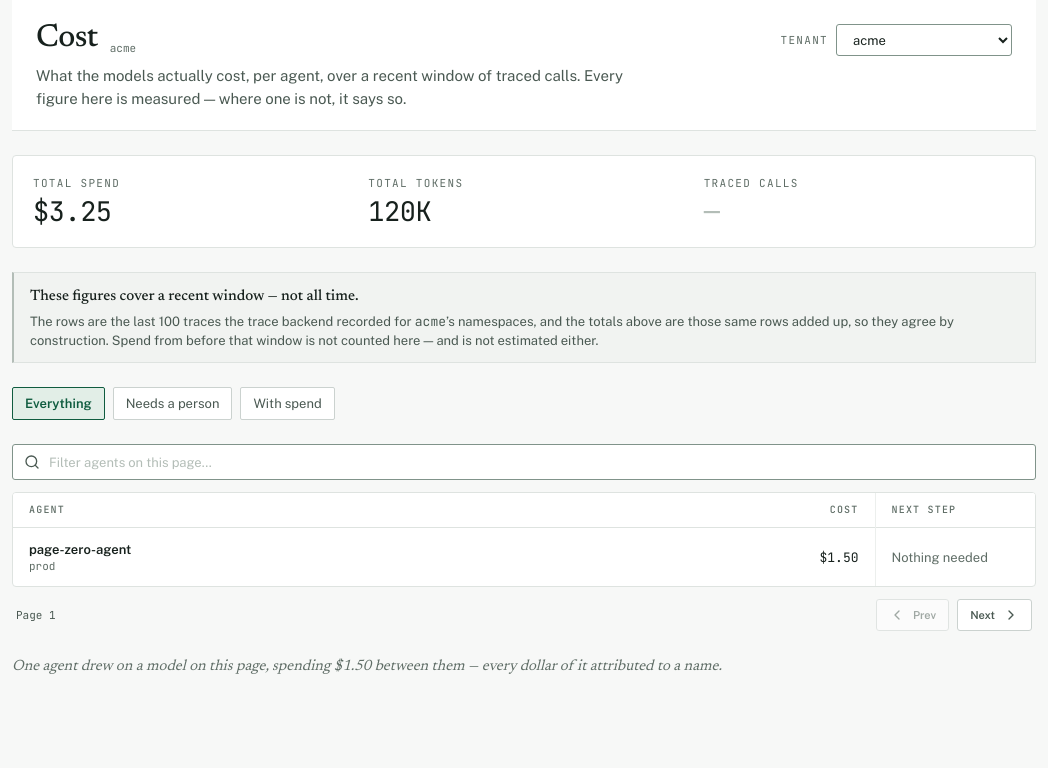
Scenario: CostPage — cursor pagination (m16.10) › nextCursor drives the next page; Prev walks back
The image size is (1048, 768).
Expected: the element with test id "cost-row-prod-page-zero-agent" is shown, [29, 542, 131, 573]
Expected: the button with aria-label "Previous page" is disabled, [876, 599, 949, 631]
What coordinates should you click on to do the following:
click the button with aria-label "Next page"
I would click on:
 (995, 615)
Its box is [957, 599, 1032, 631].
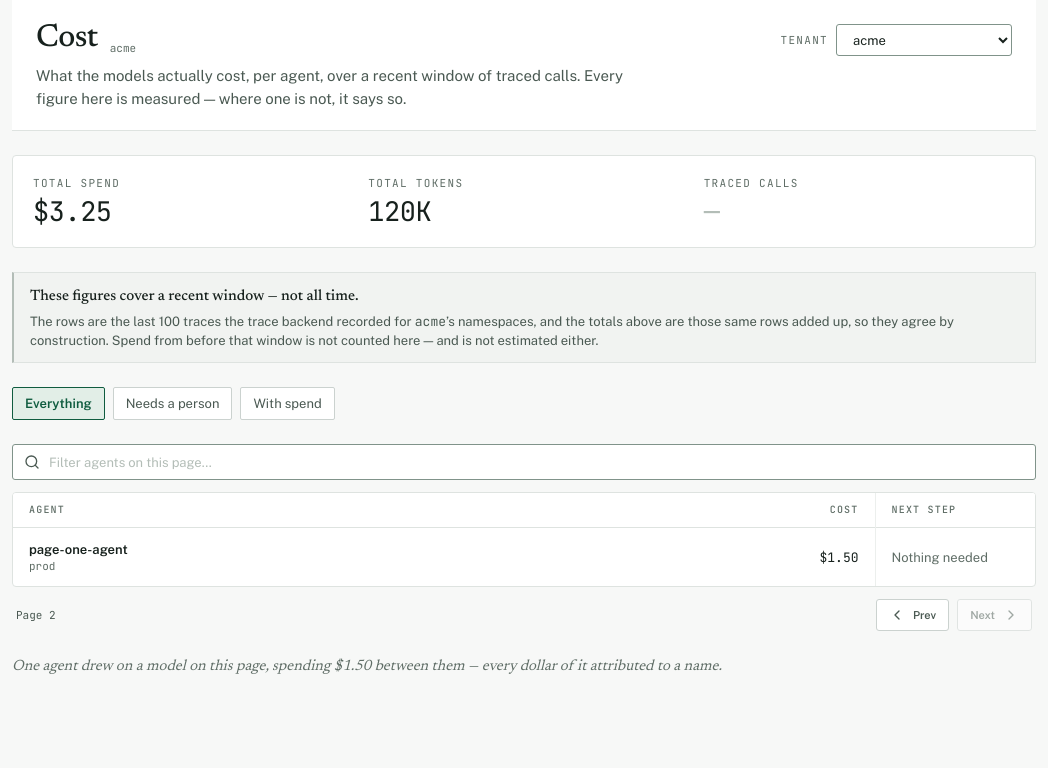
Expected: the element with test id "cost-row-prod-page-one-agent" is shown, [29, 542, 128, 573]
Expected: the button with aria-label "Next page" is disabled, [957, 599, 1032, 631]
Expected: the button with aria-label "Previous page" is enabled
Note: Prev walks back to page 0
What coordinates should you click on to do the following:
click the button with aria-label "Previous page"
I would click on:
 (913, 615)
Its box is [876, 599, 949, 631].
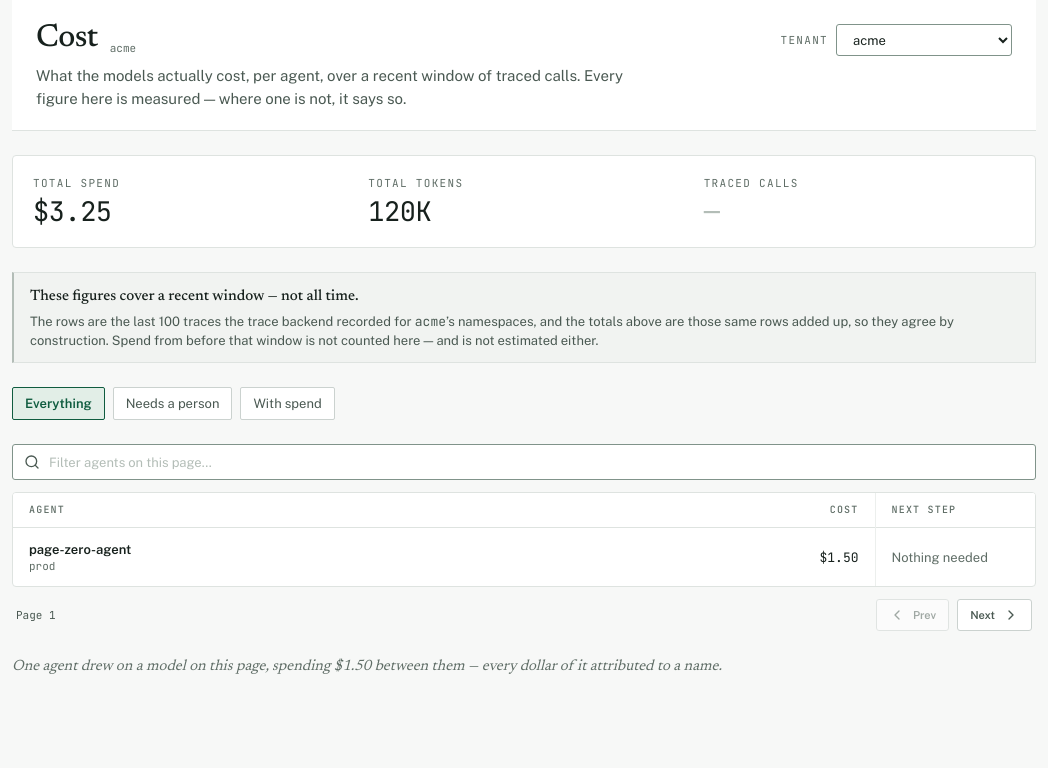
Expected: the element with test id "cost-row-prod-page-zero-agent" is shown, [29, 542, 131, 573]
